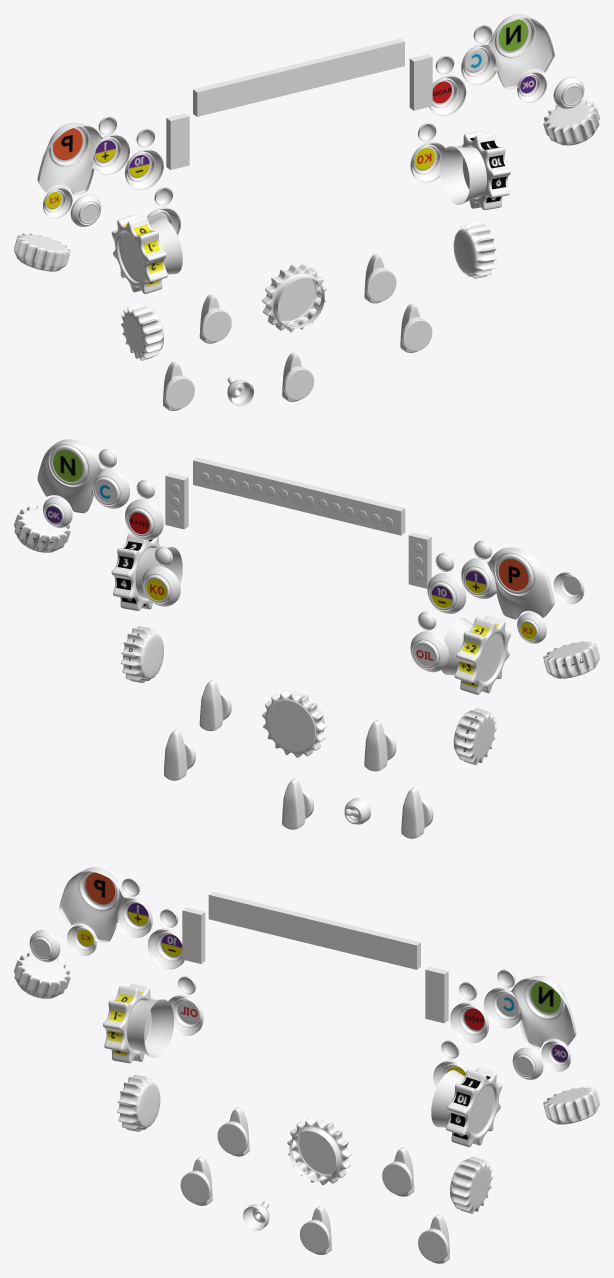
The model's file is F1_steering_wheel_controls.gltf.
The picture shows the model from 3 angles, top to bottom: view 1: azimuth 30°, elevation 25°; view 2: azimuth 150°, elevation 25°; view 3: azimuth 330°, elevation 25°; orthographic projection.
Visible parts, largest first — view 1: steering_wheel_top_buttons.001, steering_wheel_top_panel_led_case.001, steering_wheel_turnable_knobs_top_side.001, steering_wheel_turning_knobs.001, steering_wheel_turning_switches.001, steering_wheel_middle_turning_knob.001, steering_wheel_top_leds.001, steering_wheel_inter_switch.001; view 2: steering_wheel_top_buttons.001, steering_wheel_top_panel_led_case.001, steering_wheel_turning_knobs.001, steering_wheel_turnable_knobs_top_side.001, steering_wheel_turning_switches.001, steering_wheel_middle_turning_knob.001, steering_wheel_top_leds.001, steering_wheel_top_panel_leds.001, steering_wheel_inter_switch.001; view 3: steering_wheel_top_buttons.001, steering_wheel_top_panel_led_case.001, steering_wheel_turnable_knobs_top_side.001, steering_wheel_turning_knobs.001, steering_wheel_turning_switches.001, steering_wheel_middle_turning_knob.001, steering_wheel_top_leds.001, steering_wheel_inter_switch.001.
Boxes of the visible parts, x1=… form: steering_wheel_top_buttons.001: x1=37, y1=14, x2=584, y2=235; steering_wheel_top_panel_led_case.001: x1=166, y1=38, x2=432, y2=169; steering_wheel_turnable_knobs_top_side.001: x1=111, y1=131, x2=510, y2=293; steering_wheel_turning_knobs.001: x1=14, y1=99, x2=599, y2=360; steering_wheel_turning_switches.001: x1=163, y1=254, x2=432, y2=410; steering_wheel_middle_turning_knob.001: x1=262, y1=264, x2=326, y2=332; steering_wheel_top_leds.001: x1=98, y1=24, x2=492, y2=206; steering_wheel_inter_switch.001: x1=227, y1=376, x2=253, y2=406; steering_wheel_top_buttons.001: x1=37, y1=439, x2=584, y2=672; steering_wheel_top_panel_led_case.001: x1=165, y1=457, x2=431, y2=588; steering_wheel_turning_knobs.001: x1=14, y1=506, x2=599, y2=764; steering_wheel_turnable_knobs_top_side.001: x1=111, y1=533, x2=510, y2=694; steering_wheel_turning_switches.001: x1=164, y1=679, x2=433, y2=838; steering_wheel_middle_turning_knob.001: x1=262, y1=690, x2=326, y2=757; steering_wheel_top_leds.001: x1=98, y1=449, x2=492, y2=630; steering_wheel_top_panel_leds.001: x1=170, y1=472, x2=422, y2=579; steering_wheel_inter_switch.001: x1=344, y1=798, x2=371, y2=824; steering_wheel_top_buttons.001: x1=29, y1=867, x2=576, y2=1088; steering_wheel_top_panel_led_case.001: x1=182, y1=891, x2=448, y2=1023; steering_wheel_turnable_knobs_top_side.001: x1=103, y1=984, x2=502, y2=1147; steering_wheel_turning_knobs.001: x1=14, y1=952, x2=599, y2=1213; steering_wheel_turning_switches.001: x1=180, y1=1107, x2=449, y2=1263; steering_wheel_middle_turning_knob.001: x1=287, y1=1117, x2=351, y2=1185; steering_wheel_top_leds.001: x1=121, y1=878, x2=515, y2=1059; steering_wheel_inter_switch.001: x1=242, y1=1201, x2=269, y2=1230.
Size of the model in its own units: 0.2946 by 0.1646 by 0.0382.
11 materials, 1 textured.
